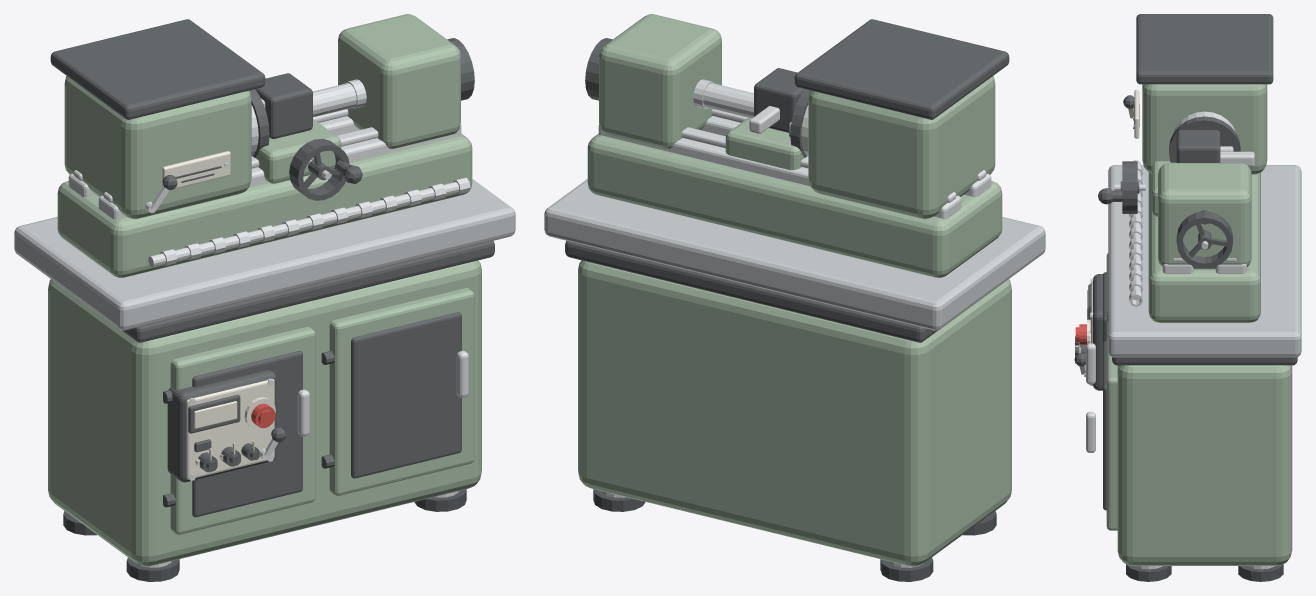
File: bench-lathe-on-a-cabinet-stand.glb
3 views of the same model, side by side, from view 1: azimuth 30°, elevation 25°; view 2: azimuth 150°, elevation 25°; view 3: azimuth 270°, elevation 25° (orthographic). The views are drawn at different scales.
Visible parts, largest first — view 1: machine-shop-and-factory-hall-bench-lathe, chuck-spin/steel, chuck-spin/charcoal; view 2: machine-shop-and-factory-hall-bench-lathe, chuck-spin/steel, chuck-spin/charcoal; view 3: machine-shop-and-factory-hall-bench-lathe, chuck-spin/charcoal, chuck-spin/steel.
Boxes of the visible parts, x1,y1,x2,y2 form: machine-shop-and-factory-hall-bench-lathe: [14, 14, 515, 581]; chuck-spin/steel: [251, 83, 356, 155]; chuck-spin/charcoal: [249, 89, 269, 157]; machine-shop-and-factory-hall-bench-lathe: [544, 14, 1045, 581]; chuck-spin/steel: [703, 83, 808, 155]; chuck-spin/charcoal: [790, 89, 810, 157]; machine-shop-and-factory-hall-bench-lathe: [1074, 14, 1301, 581]; chuck-spin/charcoal: [1169, 116, 1240, 162]; chuck-spin/steel: [1174, 111, 1236, 151].
Bounding box in the file's own units: 1.31 × 1.49 × 0.728.
